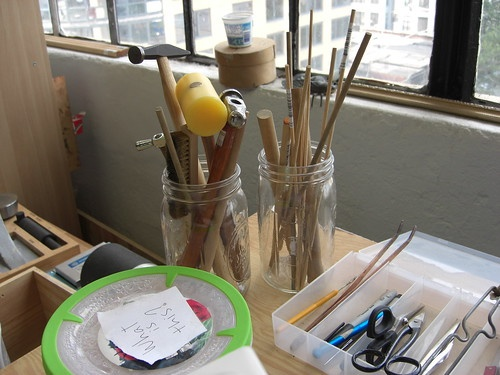hammer: (129, 40, 201, 212)
